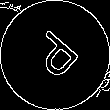P_SE: (24, 24, 86, 86)
